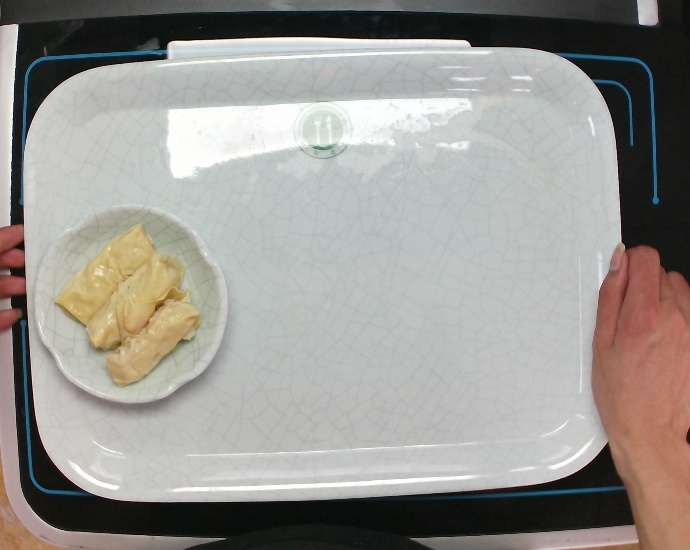JYsf-Ao_Yuan_Wan: (23, 197, 233, 412)
